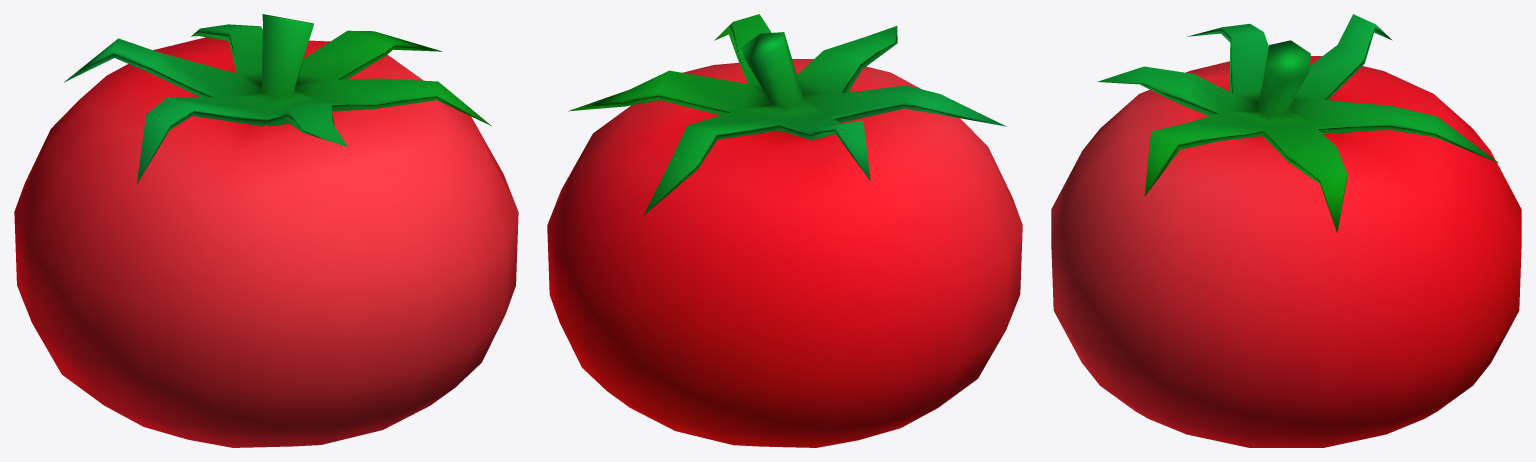
The model's file is tomato.fbx.
The picture shows the model from 3 angles, left to right: view 1: azimuth 30°, elevation 25°; view 2: azimuth 150°, elevation 25°; view 3: azimuth 270°, elevation 25°; orthographic projection. The views are drawn at different scales.
Visible parts, largest first — view 1: tomato; view 2: tomato; view 3: tomato.
Part boxes in pixels (x1=…): tomato: x1=14, y1=14, x2=518, y2=447; tomato: x1=547, y1=14, x2=1022, y2=447; tomato: x1=1051, y1=14, x2=1521, y2=447.
Size of the model in its own units: 10.46 by 9.22 by 10.52.
